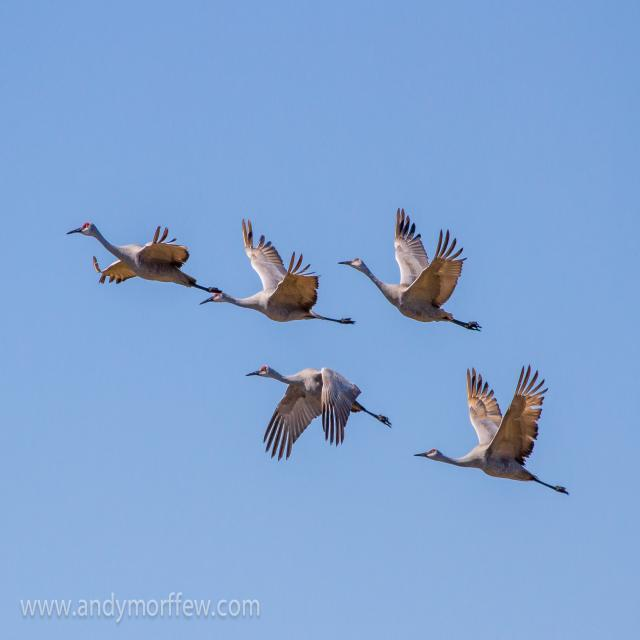bird: (411, 364, 562, 483), (336, 210, 474, 327), (251, 369, 393, 457), (202, 221, 321, 325), (62, 219, 194, 288)
